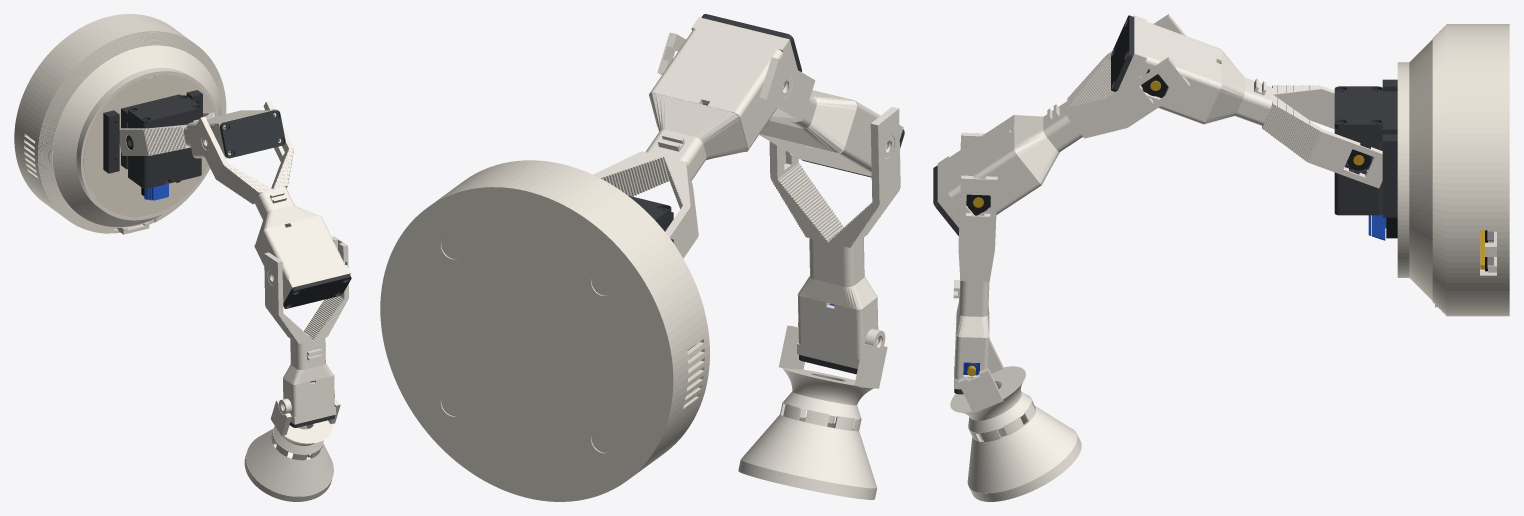
The model's file is hotaru-populated.glb.
3 renders of one model, left to right at view 1: azimuth 30°, elevation 25°; view 2: azimuth 150°, elevation 25°; view 3: azimuth 270°, elevation 25°, orthographic. The views are drawn at different scales.
Visible parts, largest first — view 1: shoulder, arm-upper, base, arm-fore, lid, shade, base-joint, arm-lower, cap-shoulder, cap-base, cap-elbow; view 2: base, arm-lower, arm-fore, shade, arm-upper, cap-shoulder; view 3: base, arm-lower, arm-upper, shoulder, shade, arm-fore, base-joint, cap-base, cap-shoulder.
Part boxes in pixels (box(x1,y1,x2,y2)): shoulder: box(37, 31, 226, 233); arm-upper: box(192, 100, 350, 302); base: box(14, 14, 191, 234); arm-fore: box(264, 236, 348, 424); lid: box(83, 74, 215, 217); shade: box(244, 398, 340, 501); base-joint: box(103, 90, 202, 188); arm-lower: box(119, 109, 281, 158); cap-shoulder: box(220, 110, 285, 158); cap-base: box(128, 95, 201, 124); cap-elbow: box(283, 274, 351, 308); base: box(380, 160, 709, 501); arm-lower: box(593, 17, 797, 258); arm-fore: box(769, 107, 900, 368); shade: box(738, 325, 887, 499); arm-upper: box(657, 32, 903, 176); cap-shoulder: box(701, 14, 801, 71); base: box(1435, 24, 1509, 316); arm-lower: box(1118, 15, 1382, 188); arm-upper: box(937, 14, 1189, 227); shoulder: box(1397, 24, 1447, 316); shade: box(950, 338, 1081, 501); arm-fore: box(953, 132, 997, 389); base-joint: box(1334, 79, 1397, 217); cap-base: box(1334, 86, 1382, 129); cap-shoulder: box(1111, 15, 1134, 91).
Size of the model in its own units: 160 by 277 by 316.
